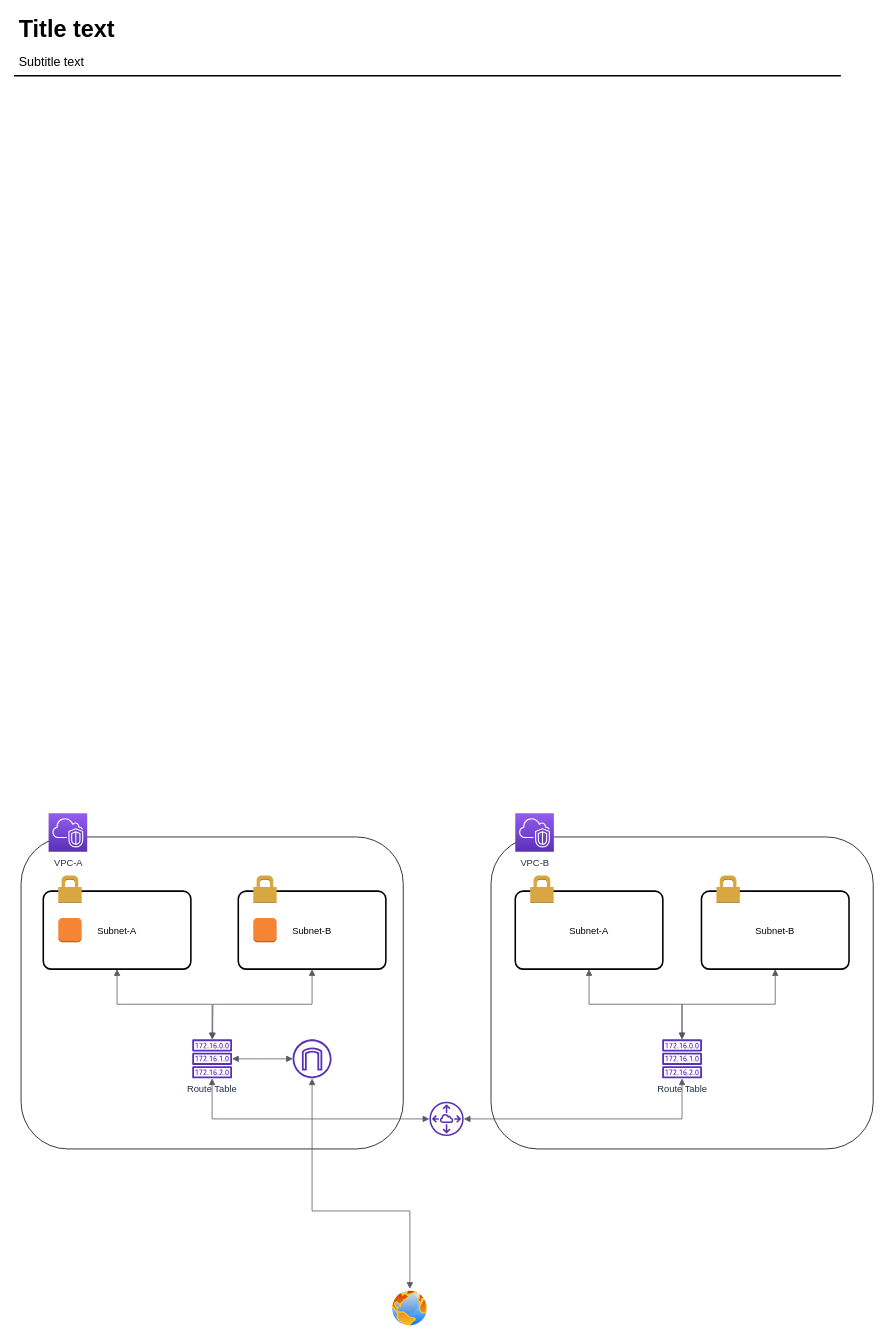
Image size: 887x1342. Some labels were removed from this diagram. The shapes that lost their labels are listed below. From the top down, each one's centre as x and y in pixels, then its label:
At point (69, 929): "Instance A".
At point (264, 929): "Instance B".
At point (311, 1058): "Internet Gateway".
At point (446, 1118): "PCX".
